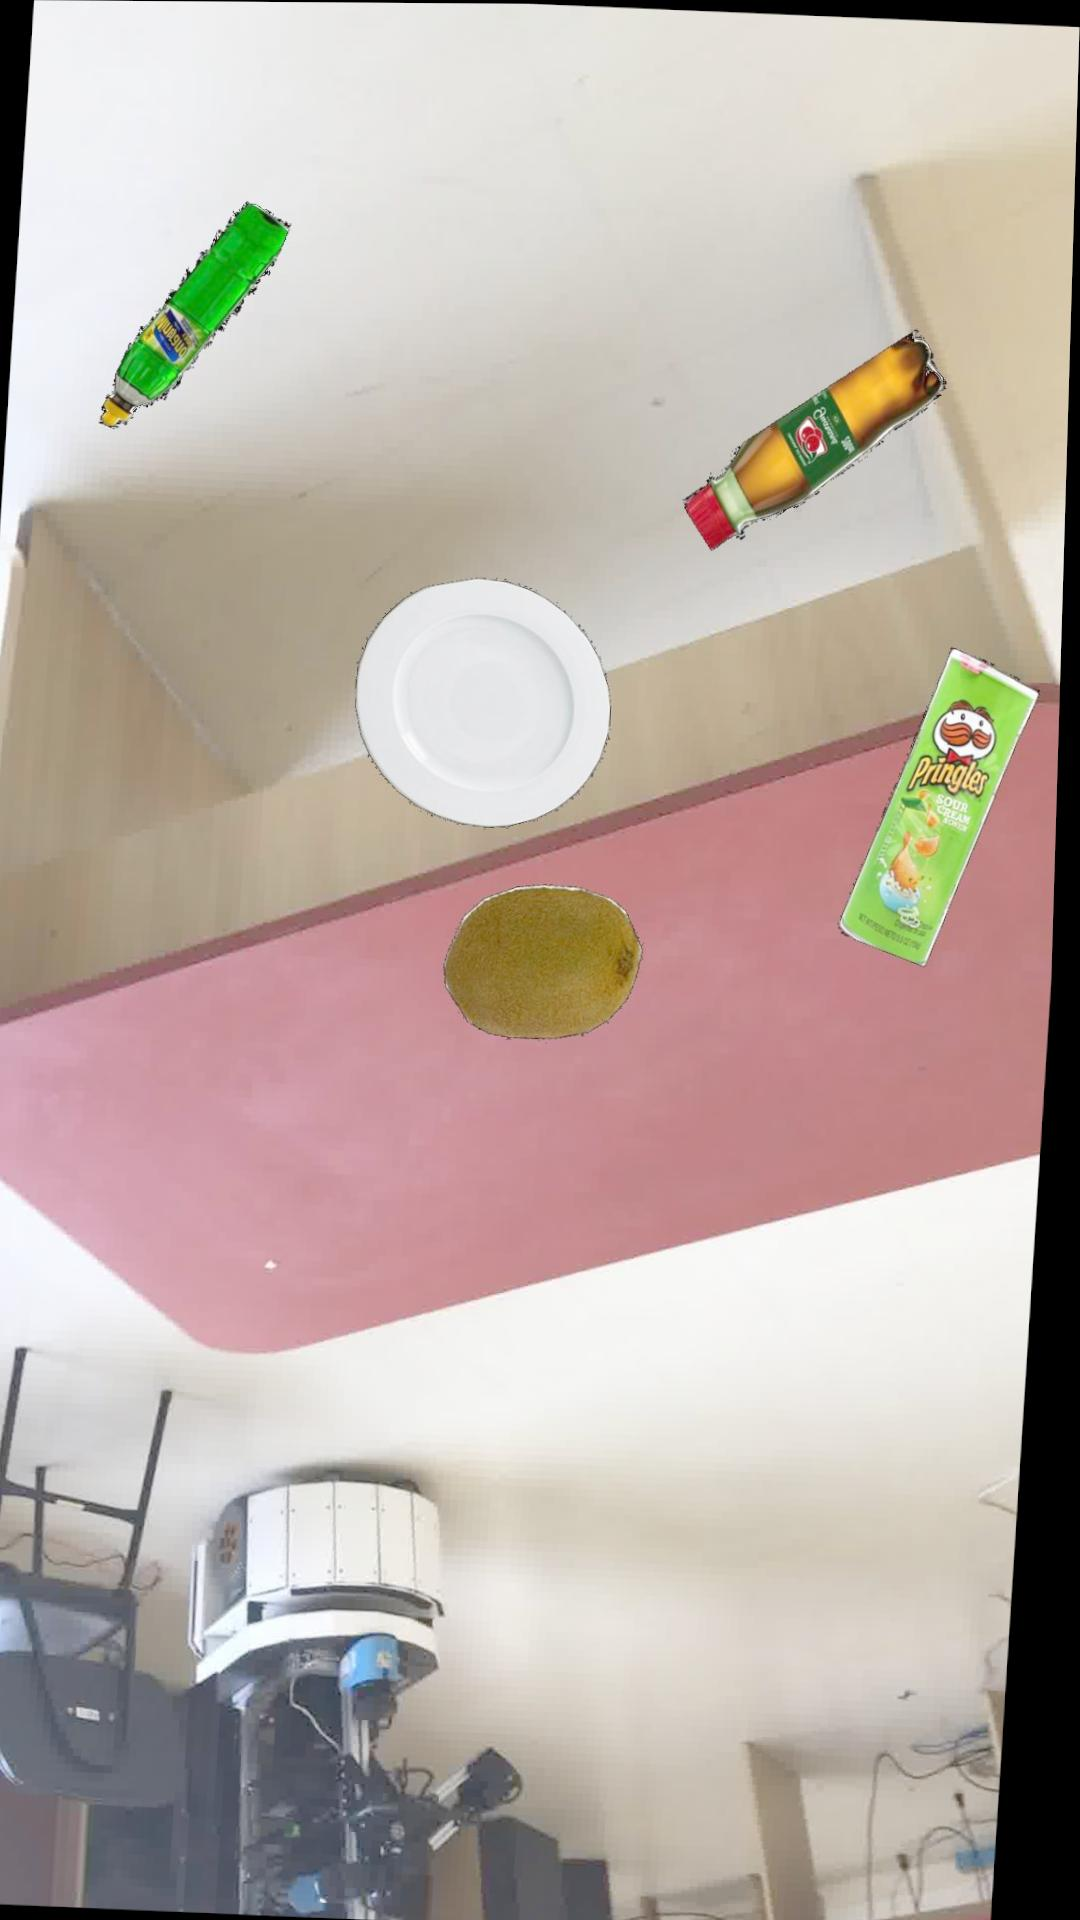cleaner: (100, 202, 290, 429)
guarana: (684, 328, 947, 550)
kiwi: (447, 884, 646, 1039)
plate: (357, 578, 613, 827)
pringles: (843, 646, 1042, 967)
